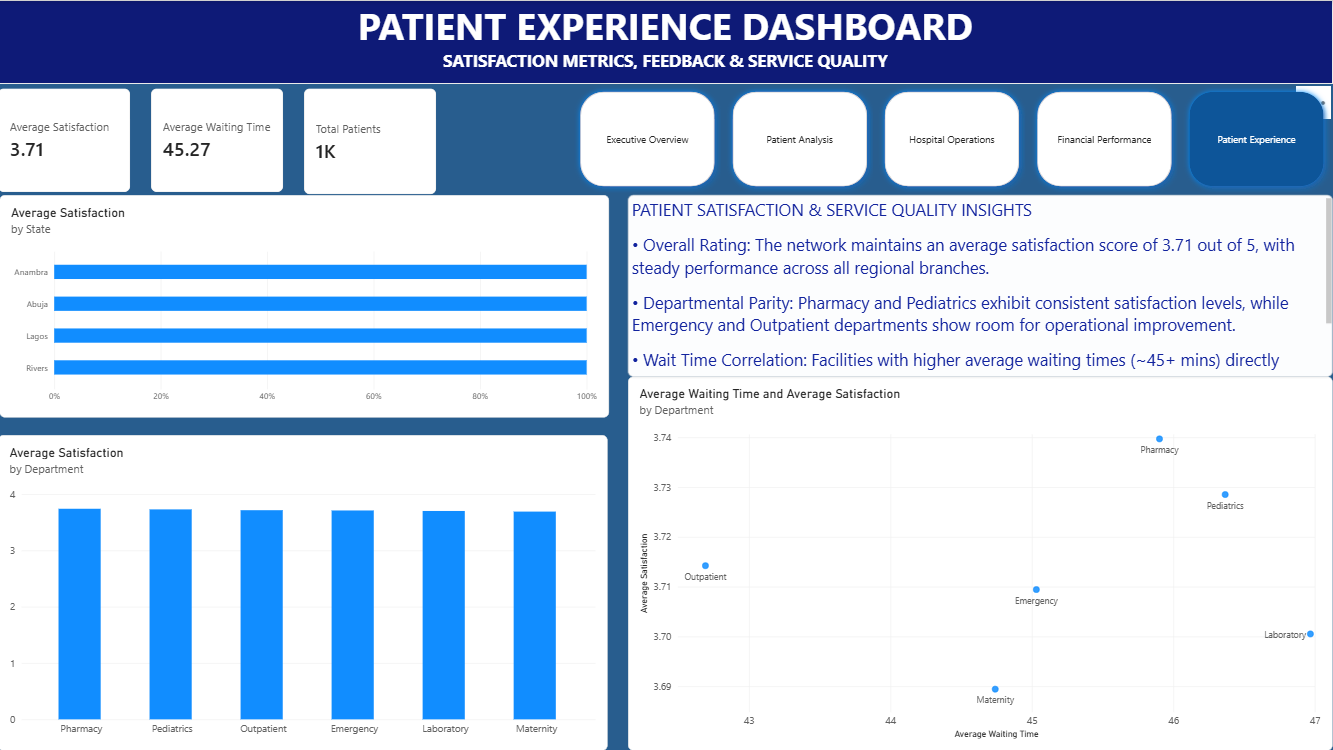

The page's visual inventory and layout, read from the dashboard file:
{"tool":"powerbi","page":{"name":"Patient Experience","canvas":[1920,1080],"ordinal":4},"visuals":[{"type":"textbox","box":[0,0,1919.3,120.4],"z":0},{"type":"pageNavigator","box":[829,122.7,1090.2,154.4],"z":1000},{"type":"cardVisual","fields":{"Data":["_Measure.Average Satisfaction"]},"box":[0,127.2,190.8,149.9],"z":2000},{"type":"cardVisual","fields":{"Data":["_Measure.Average Waiting Time"]},"box":[220.3,127.2,190.8,149.9],"z":3000},{"type":"cardVisual","fields":{"Data":["_Measure.Total Patients"]},"box":[440.6,127.2,190.8,152.2],"z":4000},{"type":"clusteredColumnChart","fields":{"Category":["Patient_Visits.Department"],"Y":["_Measure.Average Satisfaction"]},"box":[0,624.6,876.7,454.3],"z":4001},{"type":"hundredPercentStackedBarChart","fields":{"Category":["Patient_Visits.State"],"Y":["_Measure.Average Satisfaction"]},"box":[2.3,279.4,876.7,320.3],"z":4002},{"type":"scatterChart","fields":{"Category":["Patient_Visits.Department"],"X":["_Measure.Average Waiting Time"],"Y":["_Measure.Average Satisfaction"]},"box":[906.3,540.6,1013,538.3],"z":4003},{"type":"textbox","box":[906.3,279.4,1013,261.2],"z":4004}]}

Visuals, with their boxes in screenshot pixels (x1, y1, x2, y2), scaled from the page's 1920x1080 canvas onto the 1333x750 screenshot:
textbox: x1=0, y1=0, x2=1332, y2=84
pageNavigator: x1=576, y1=85, x2=1332, y2=192
cardVisual - _Measure.Average Satisfaction: x1=0, y1=88, x2=132, y2=192
cardVisual - _Measure.Average Waiting Time: x1=153, y1=88, x2=285, y2=192
cardVisual - _Measure.Total Patients: x1=306, y1=88, x2=438, y2=194
clusteredColumnChart - Patient_Visits.Department x _Measure.Average Satisfaction: x1=0, y1=434, x2=609, y2=749
hundredPercentStackedBarChart - Patient_Visits.State x _Measure.Average Satisfaction: x1=2, y1=194, x2=610, y2=416
scatterChart - Patient_Visits.Department x _Measure.Average Waiting Time: x1=629, y1=375, x2=1332, y2=749
textbox: x1=629, y1=194, x2=1332, y2=375
